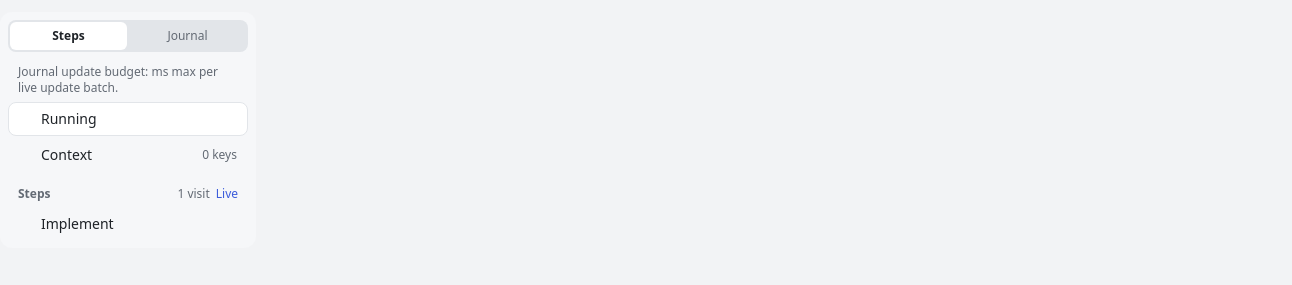
Test case: RunVisitsCard steering › shows an HTTP error
Click the option with test id "run-visit-row": (128, 224) [8, 208, 248, 240]
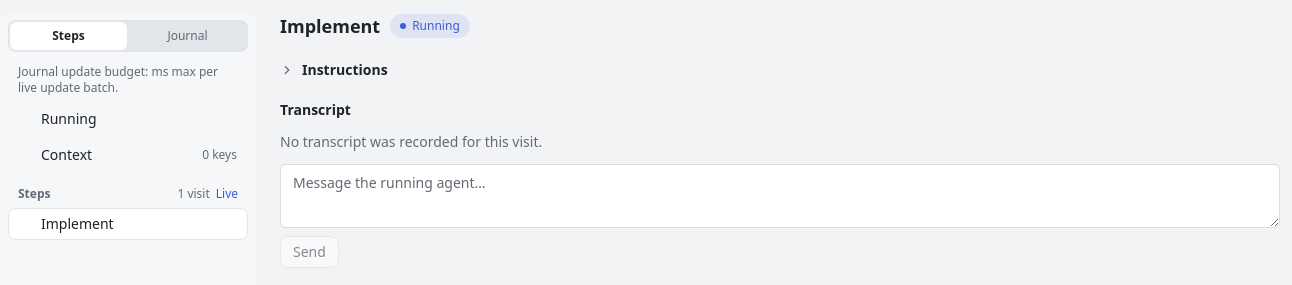
In the text box with test id "run-visit-steer-input": (780, 196) [280, 164, 1280, 228], type "Stop."
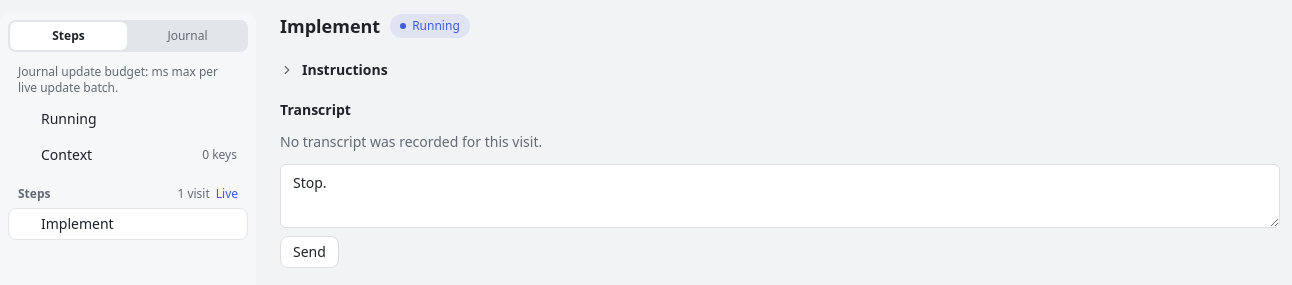
Click the button with test id "run-visit-steer-send": (309, 252) [280, 236, 339, 268]
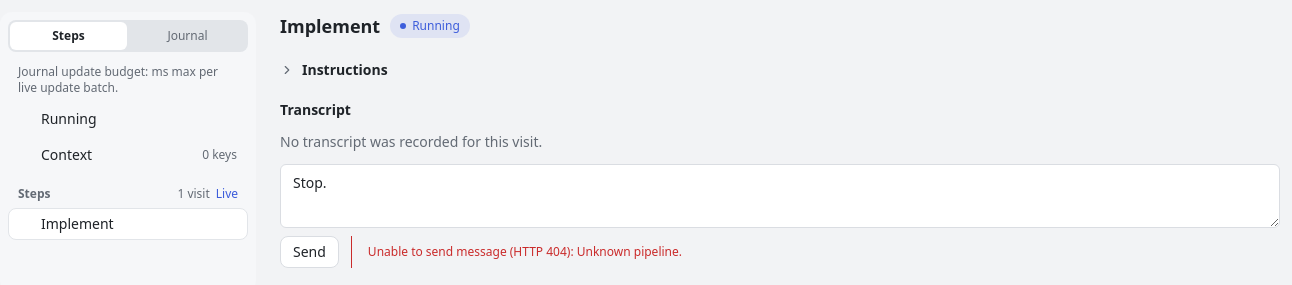
expect the message with test id "run-visit-steer-rejected" reads "Unable to send message (HTTP 404): Unknown pipeline.": met, box [368, 243, 682, 260]
